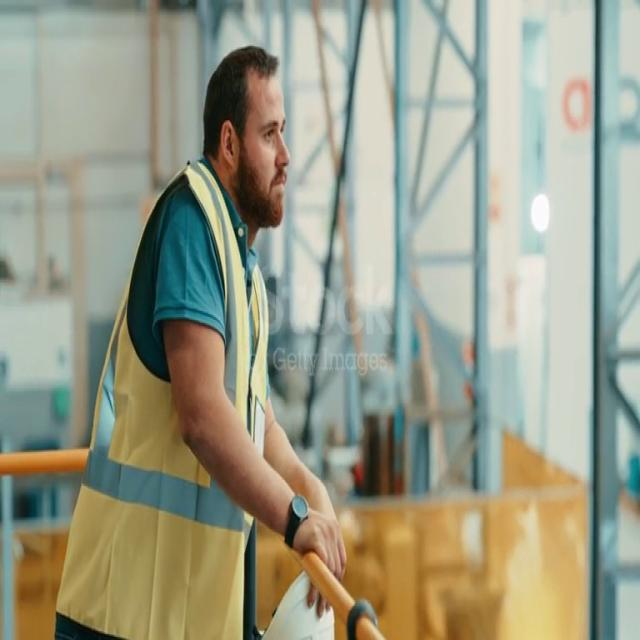sem_capacete: (190, 36, 310, 258)
